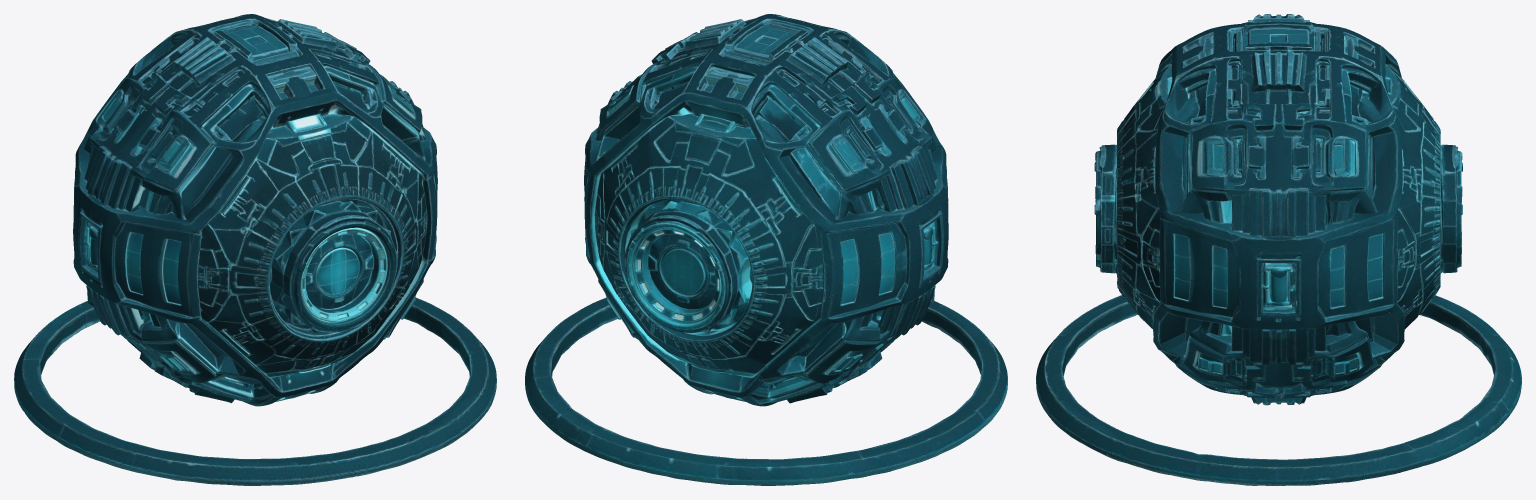
The model's file is shield_orb.glb.
3 renders of one model, left to right at view 1: azimuth 30°, elevation 25°; view 2: azimuth 150°, elevation 25°; view 3: azimuth 270°, elevation 25°, orthographic.
Bounding box in the file's own units: 1.9 × 1.53 × 1.9.
1 material, 1 textured.
